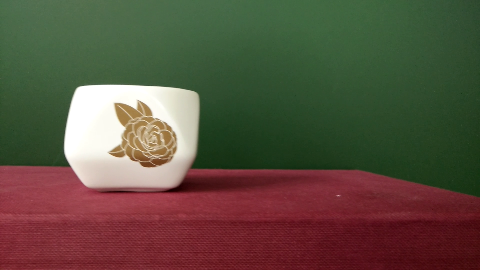flower: (102, 94, 182, 172)
